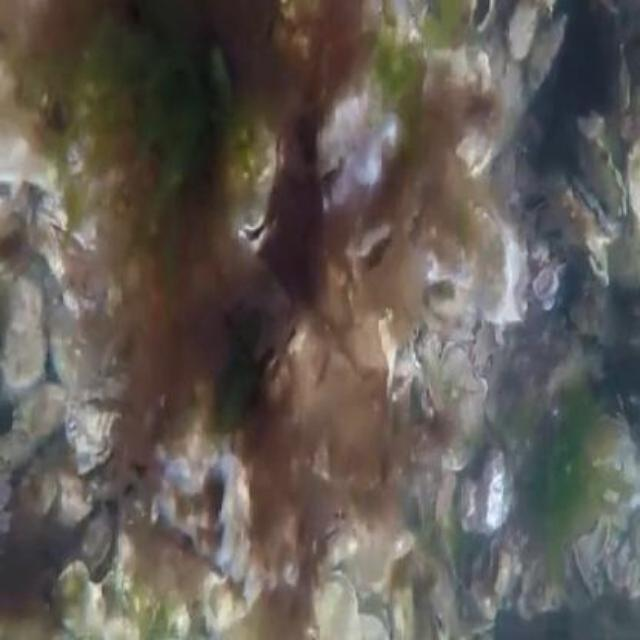Oyster-Closed: (471, 204, 525, 330), (261, 312, 316, 405), (1, 280, 45, 387), (49, 309, 99, 395), (0, 117, 57, 185), (55, 562, 107, 634), (12, 386, 64, 448), (314, 568, 355, 638), (504, 0, 538, 67), (578, 517, 610, 563), (489, 545, 511, 599), (351, 616, 387, 638), (627, 143, 638, 211)
Oyster-Open: (319, 94, 401, 216), (349, 221, 418, 344), (223, 121, 286, 255), (575, 130, 626, 229), (584, 230, 610, 288), (470, 0, 495, 36)
